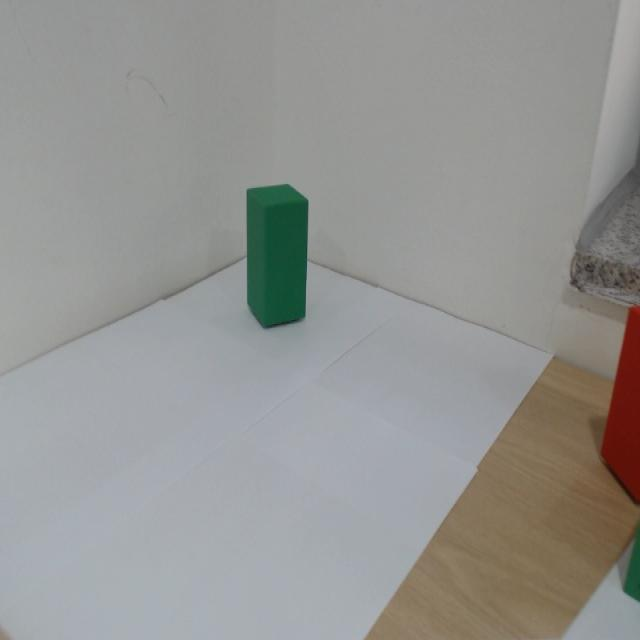cube: (219, 210, 351, 386)
